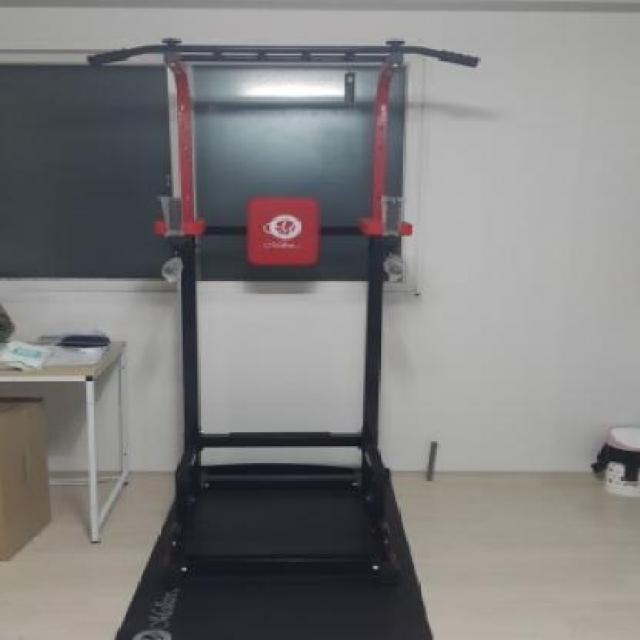chinning dipping: (91, 40, 474, 598)
